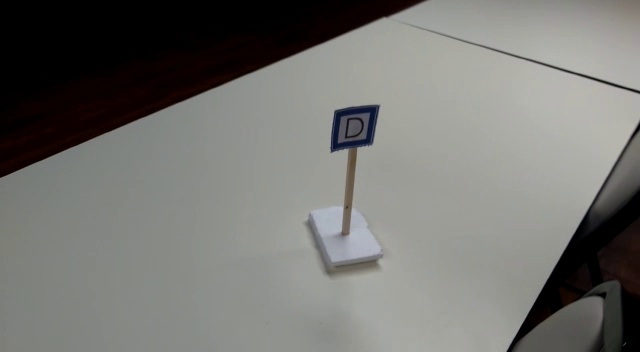durak: (329, 103, 379, 154)
